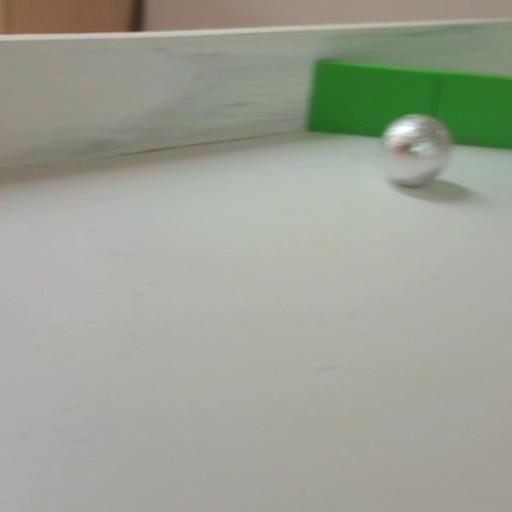alive: (380, 113, 450, 186)
